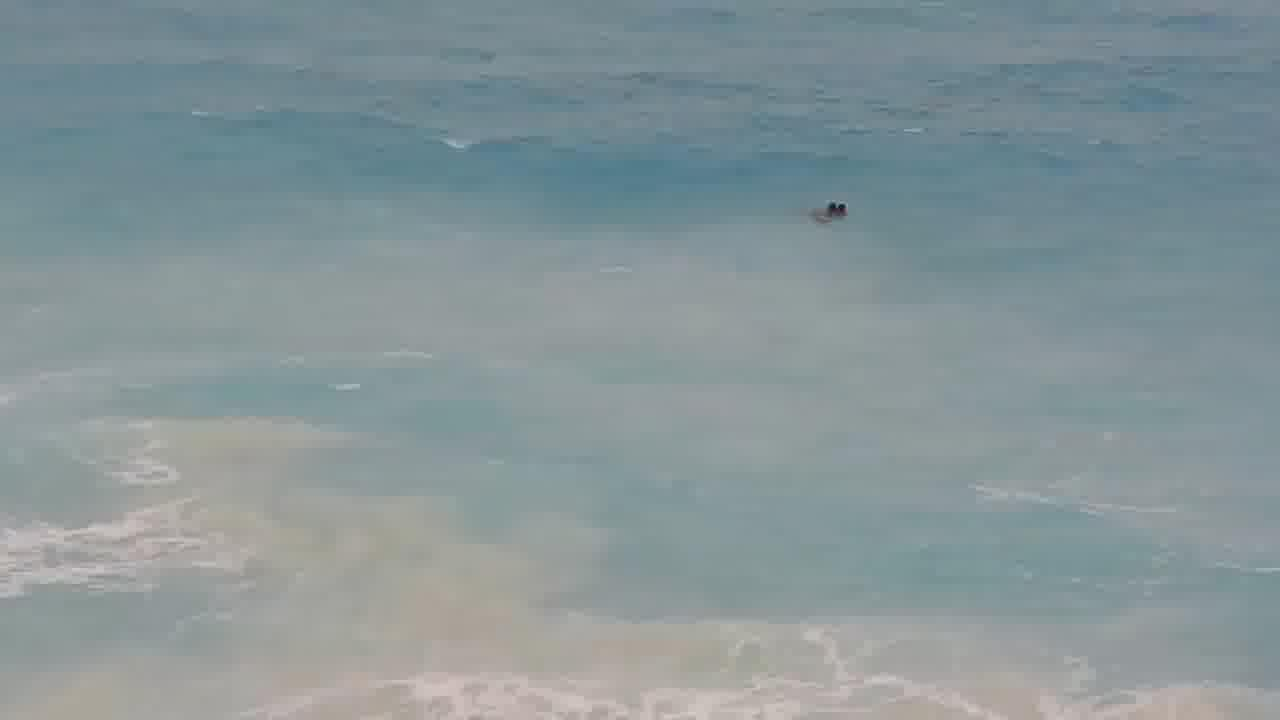swimmer: (818, 189, 856, 236)
